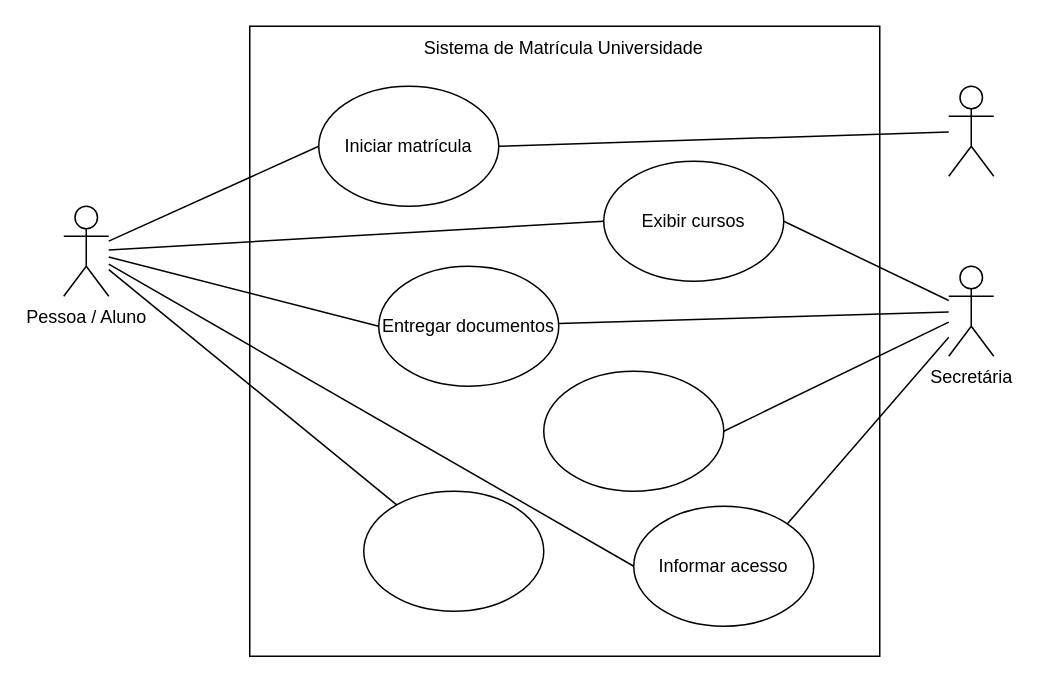
Some shapes in this 1053 by 683 pixel diagram are drawn without their labels. Here are the shapes that lost their labels. From the top down, the box of each, then its label:
(947, 85, 994, 176): Recepcionista
(542, 370, 724, 491): Efetivar matrícula
(362, 490, 544, 611): Testar acesso ao painel
